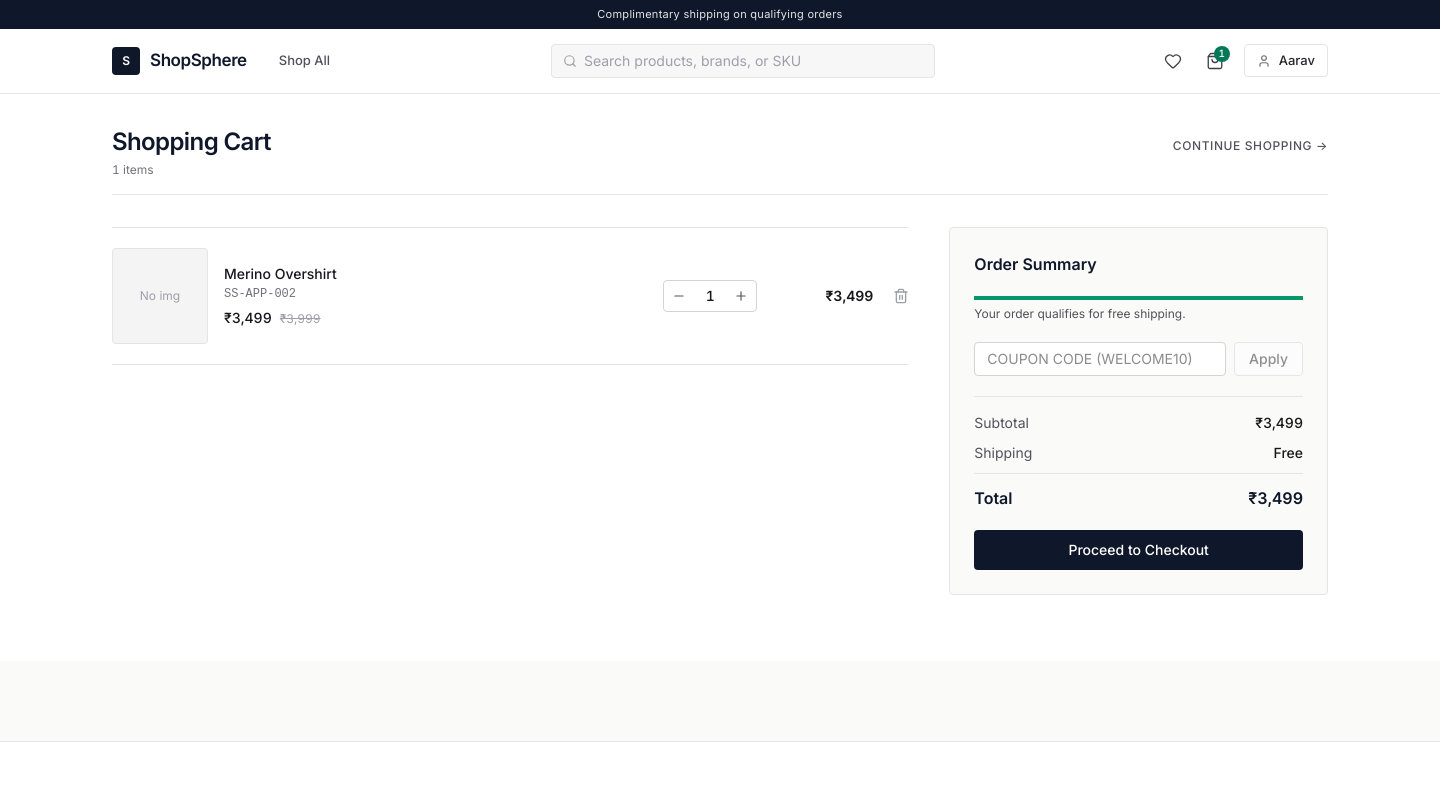
it: Auth, Protected Routes, and Cart interactions › renders authenticated cart items and supports coupon application
Expected: the link "Merino Overshirt" is shown, [224,264,337,282]
Type "WELCOME10" into the field with placeholder "Coupon code (WELCOME10)" at (1100,358), box [974,342,1226,376]
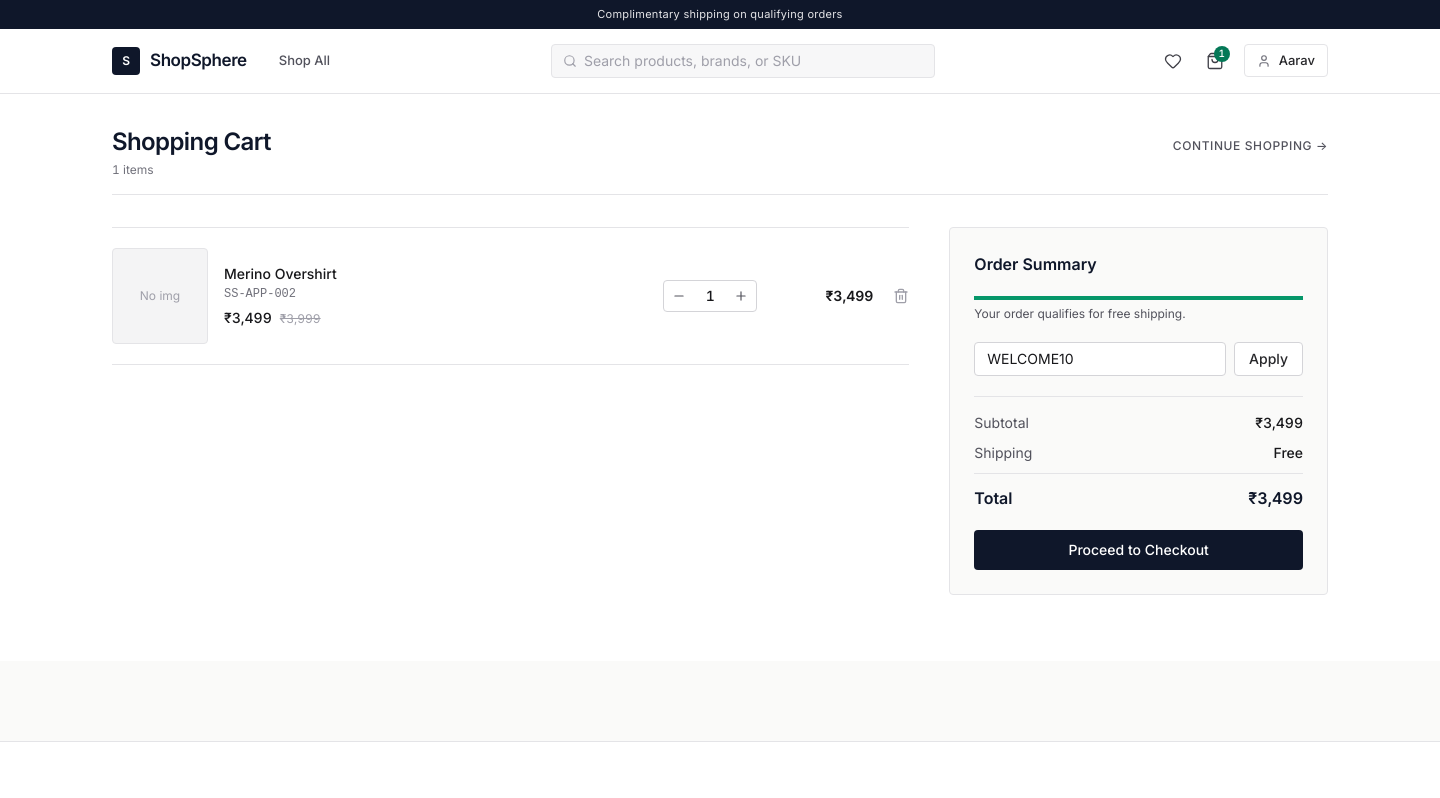
Click the button "Apply" at (1269,358), box [1234,342,1303,376]
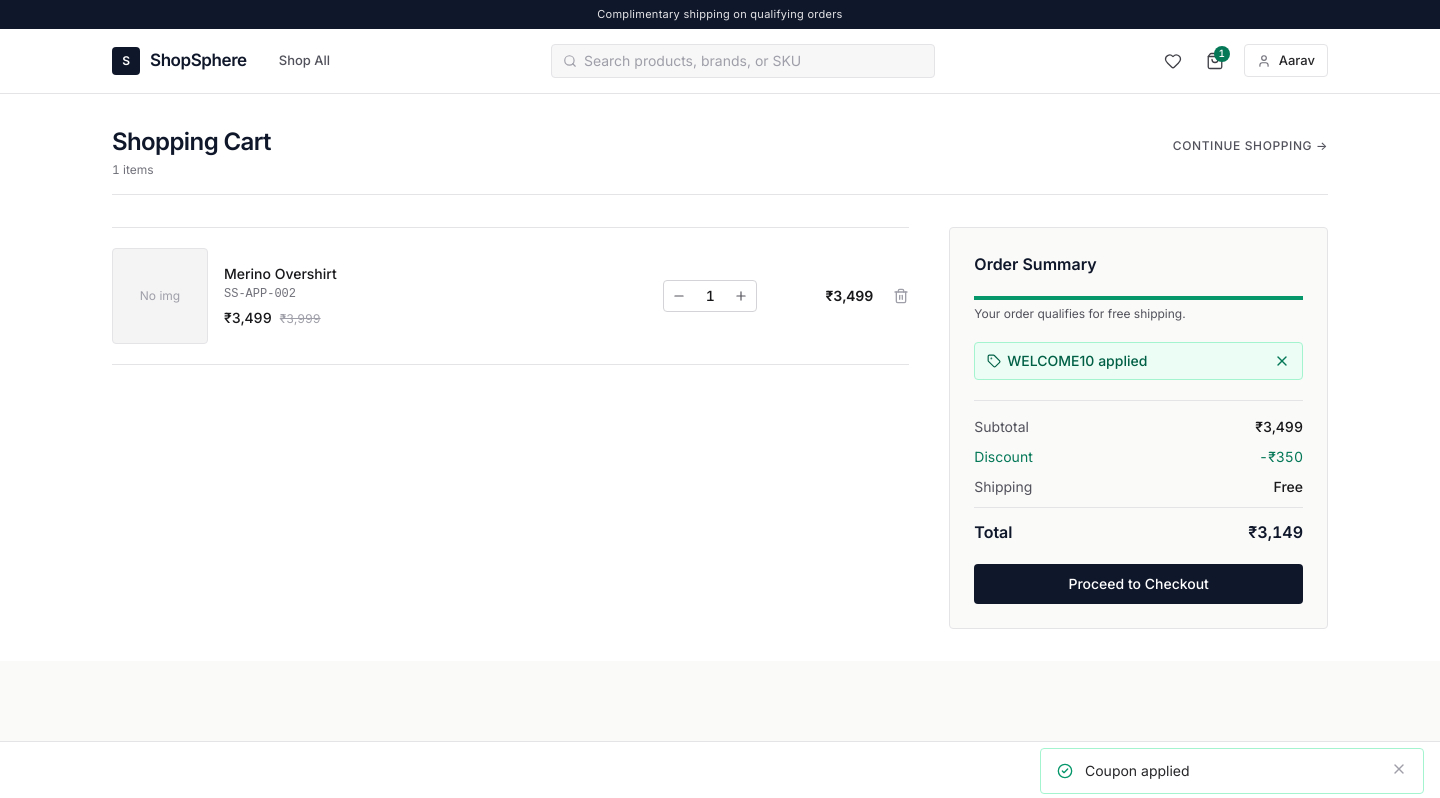
Now the text "WELCOME10 applied" is shown, box [987,350,1147,370]
